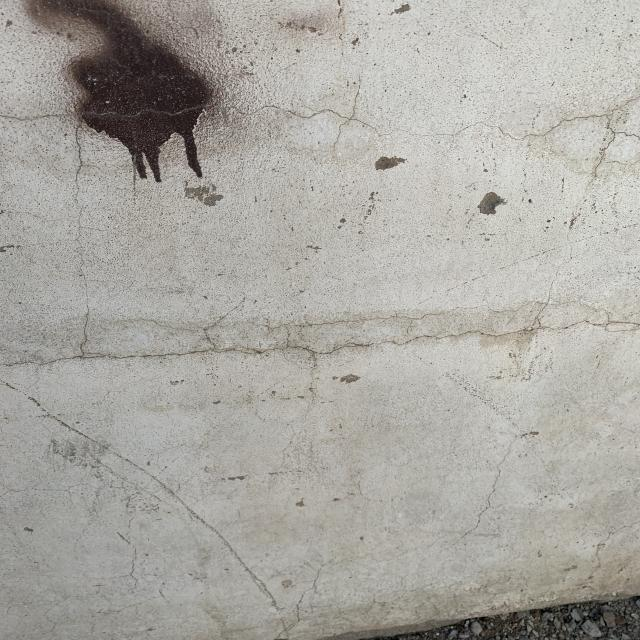diagonal crack: (0, 364, 313, 640)
